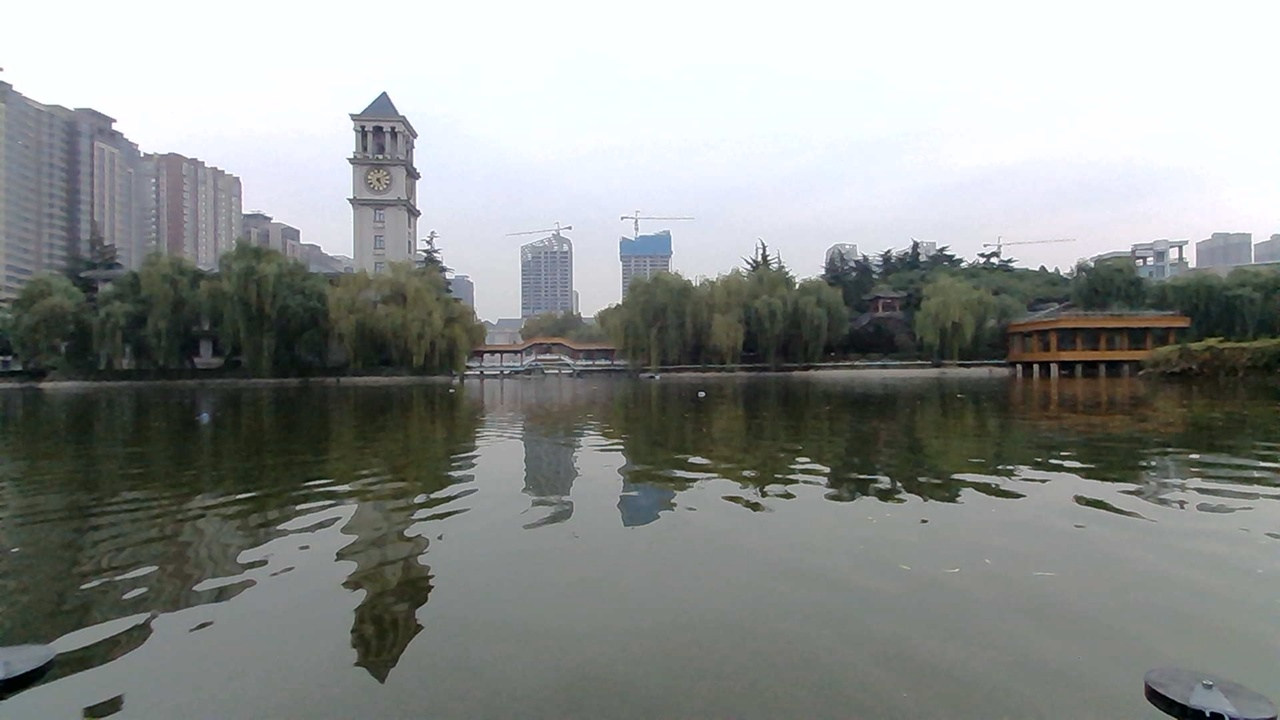bottle: (669, 381, 712, 405), (190, 406, 224, 428)
